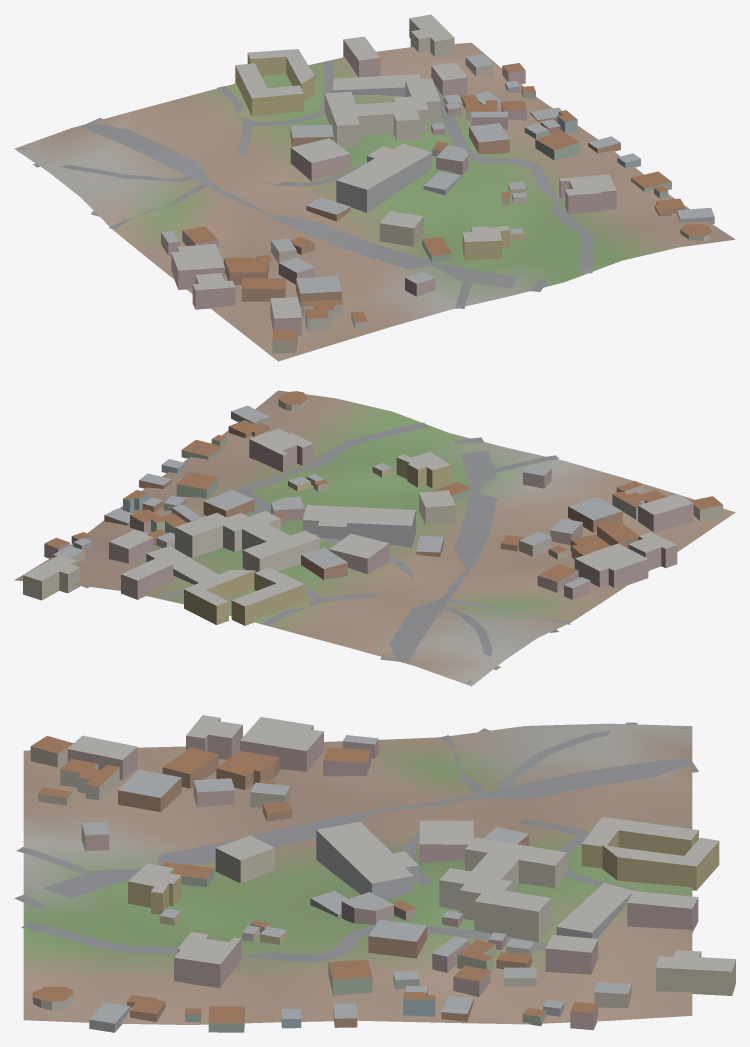
3 views of the same model, one above another, from view 1: azimuth 30°, elevation 25°; view 2: azimuth 150°, elevation 25°; view 3: azimuth 270°, elevation 25° (orthographic). The views are drawn at different scales.
Parts seen in each view (by area): view 1: Lo; view 2: Lo; view 3: Lo.
Part boxes in pixels (<box>): Lo: <box>14,14,735,361</box>; Lo: <box>14,390,735,686</box>; Lo: <box>14,715,735,1032</box>.
Size of the model in its own units: 269 by 25.7 by 276.
